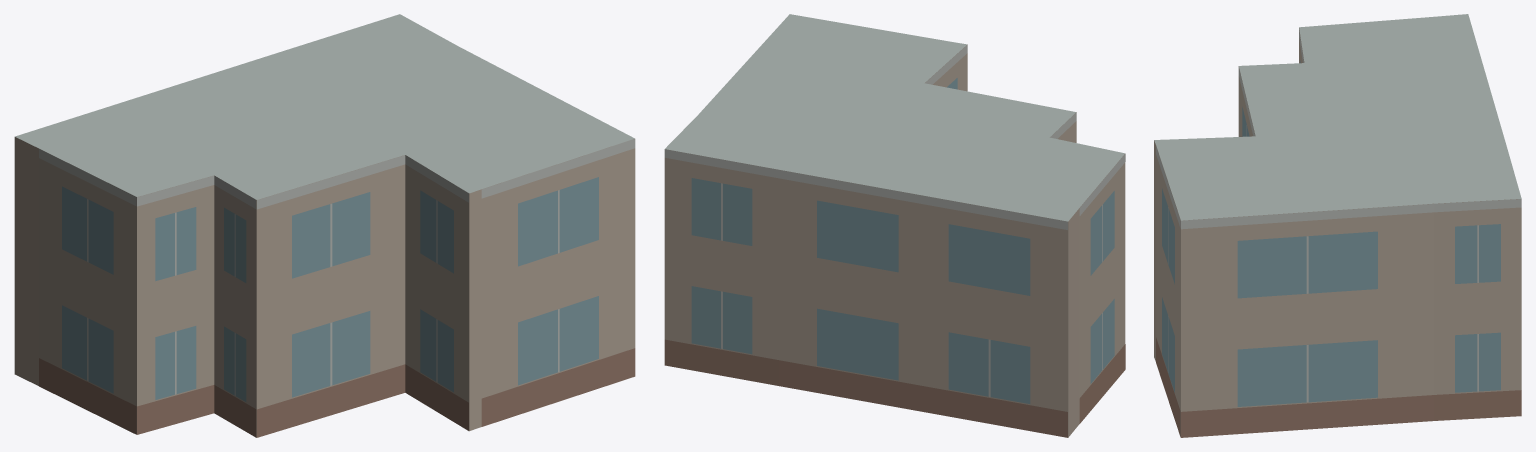
File: survey-upis-32956985.glb
The picture shows the model from 3 angles, left to right: view 1: azimuth 30°, elevation 25°; view 2: azimuth 150°, elevation 25°; view 3: azimuth 270°, elevation 25°; orthographic projection. The views are drawn at different scales.
Parts seen in each view (by area): view 1: survey-upis-32956985.tmp; view 2: survey-upis-32956985.tmp; view 3: survey-upis-32956985.tmp.
Boxes of the visible parts, <box> form: survey-upis-32956985.tmp: <box>14,14,635,437</box>; survey-upis-32956985.tmp: <box>664,14,1125,437</box>; survey-upis-32956985.tmp: <box>1154,14,1521,437</box>.
Size of the model in its own units: 12.45 by 6.1 by 9.36.
